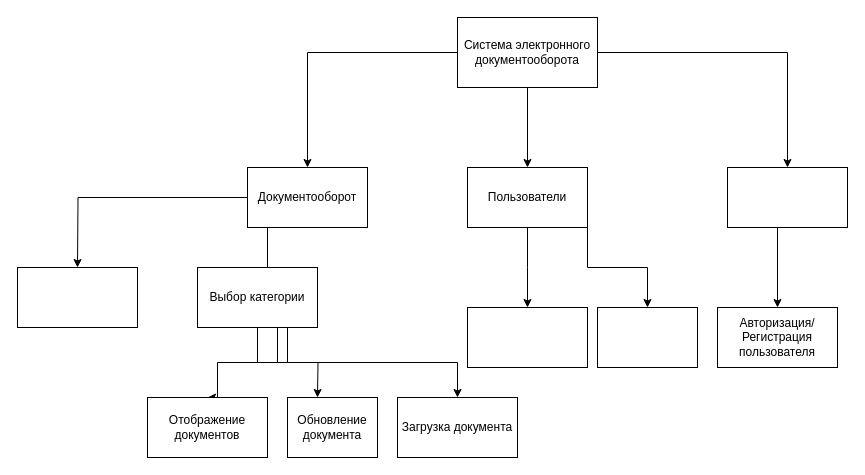
Image size: 865x475. Some labels were removed from this diagram. Here are the shapes that lost their labels. From the top down, the centre of each, then its label:
At pixel 787 197: "Личный кабинет".
At pixel 77 297: "Создание/редактирование категории".
At pixel 527 337: "Просмотр пользователей".
At pixel 647 337: "Управление пользователями*(для администратора)".
